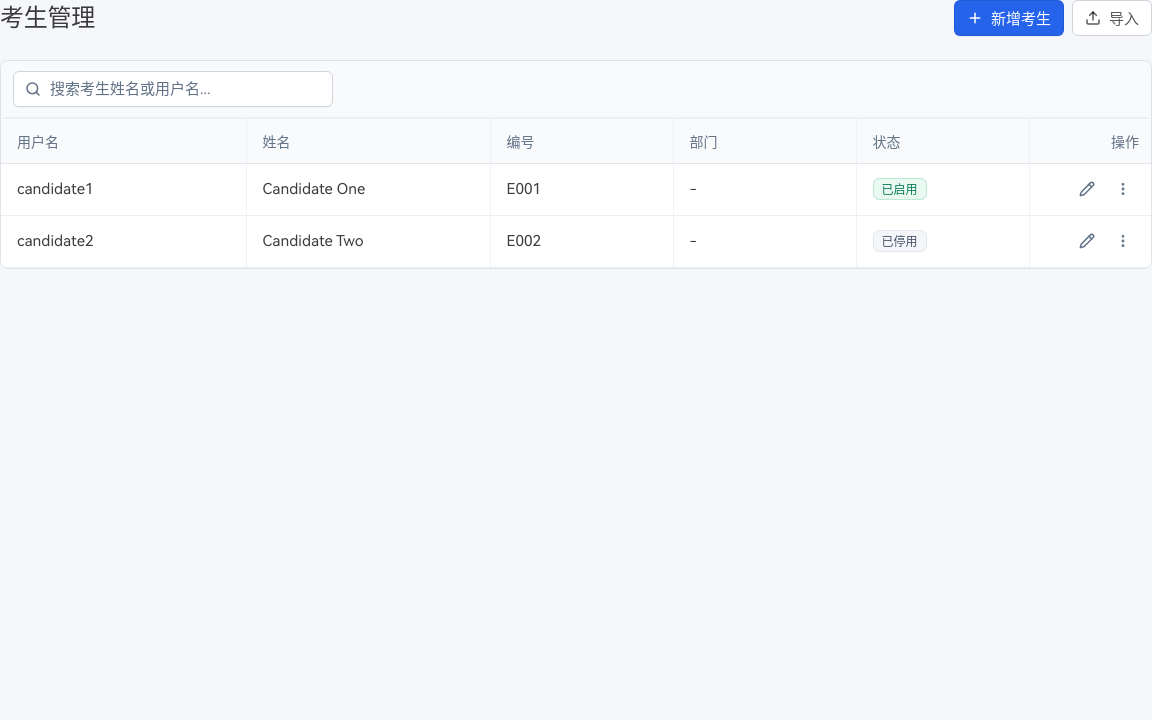
CandidatesPage › opens import dialog
Click the button "导入" at (1112, 18), box [1072, 0, 1151, 36]
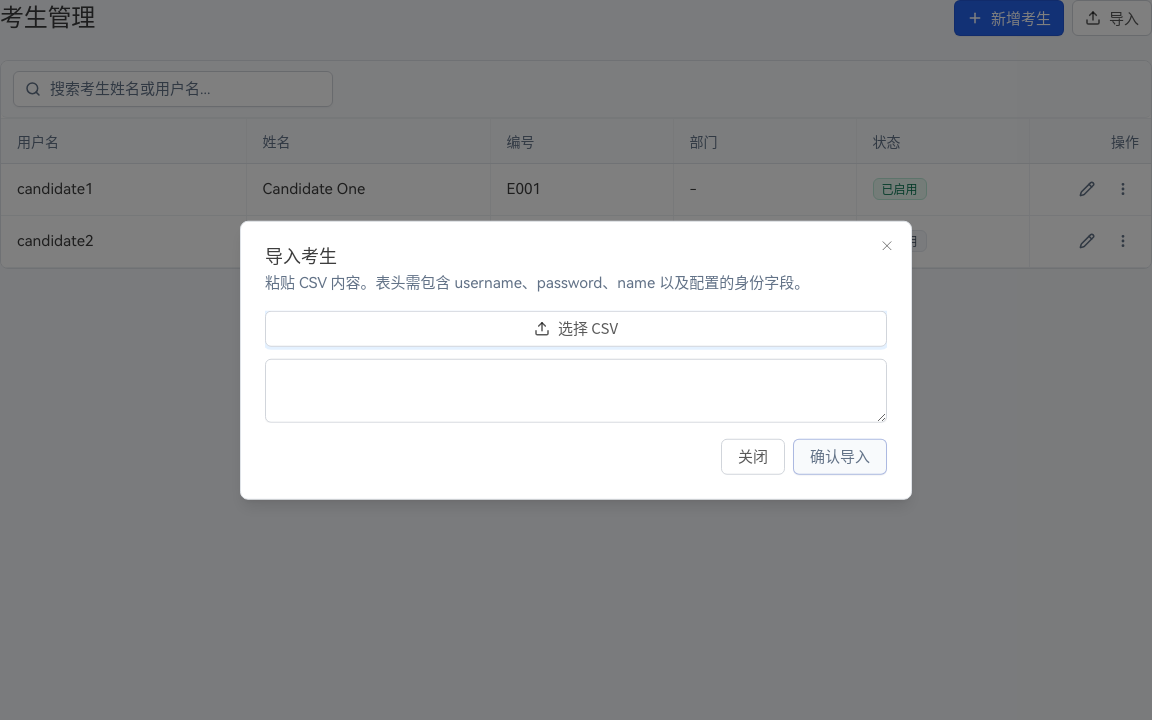
Result: the heading "导入考生" is shown at [265, 242, 337, 268]
